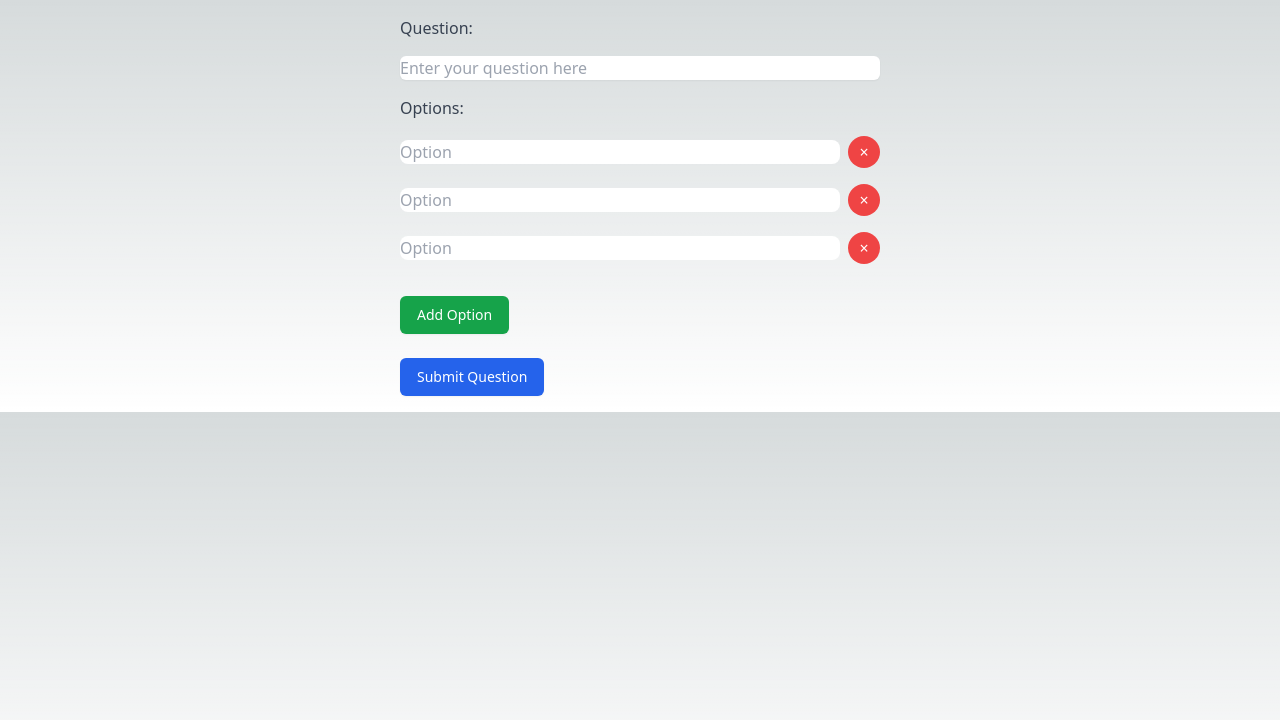
Test: allows option removal when more than two options exist
Expected: the number of fields named "Option input" is 3, top-left (400, 140), bottom-right (840, 164); top-left (400, 188), bottom-right (840, 212); top-left (400, 236), bottom-right (840, 260)
What coordinates should you click on to do the following:
click the button named "Remove option"
I would click on:
 (864, 152)
Its box is top-left (848, 136), bottom-right (880, 168).
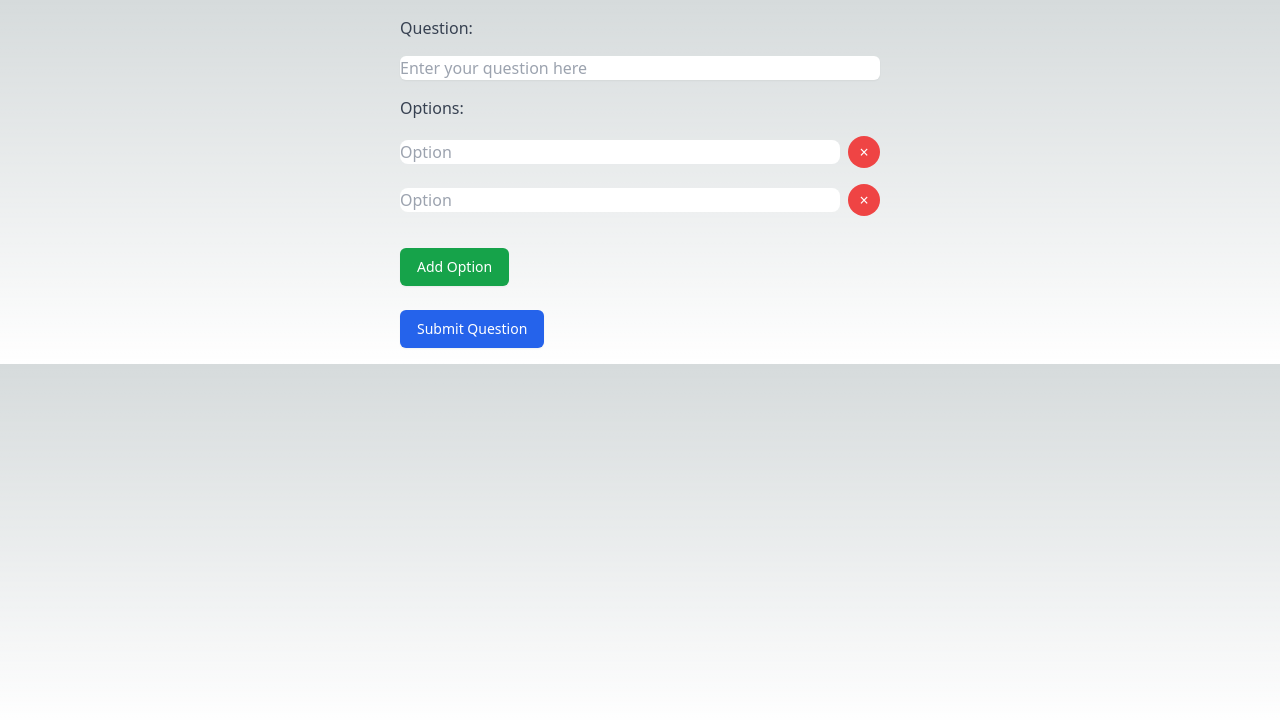
Now the number of fields named "Option input" is 2, box top-left (400, 140), bottom-right (840, 164); top-left (400, 188), bottom-right (840, 212)
